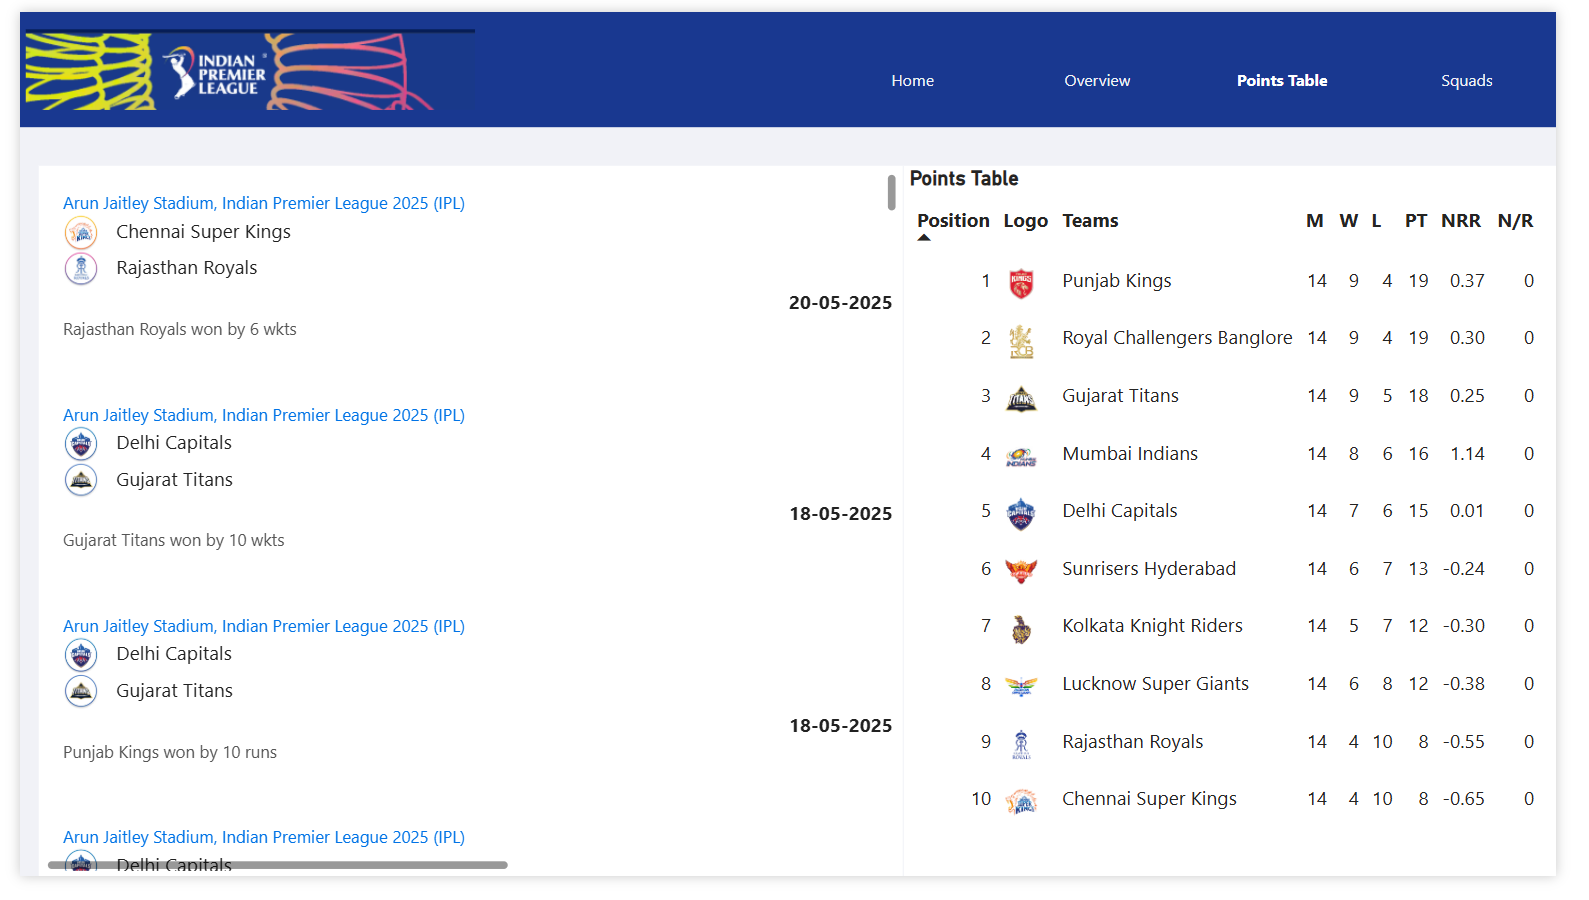

This screenshot's page, from the dashboard's own definition file:
{"tool":"powerbi","page":{"name":"Points Table","canvas":[1280,720],"ordinal":2},"visuals":[{"type":"tableEx","title":"Points Table ","fields":{"Values":["Points_table.Position","Points_table.Logo","Points_table.Teams","Points_table.M","Points_table.W","Points_table.L","Points_table.PT","Points_table.NRR","Points_table.N/R"]},"box":[736,128,544,592],"z":0},{"type":"shape","box":[0,0,1280,96],"z":1000},{"type":"pageNavigator","box":[672,32,608,48],"z":2000},{"type":"htmlContent443BE3AD55E043BF878BED274D3A6855","fields":{"content":["Schedule.Cards_HW"]},"box":[16,128,720,592],"z":3000},{"type":"image","box":[0,0,384,96],"z":4000}]}

Visuals, with their boxes in screenshot pixels (x1, y1, x2, y2), scaled from the page's 1280x720 canvas onto the 1589x900 screenshot:
"Points Table " tableEx: x1=914 y1=160 x2=1588 y2=899
shape: x1=0 y1=0 x2=1588 y2=120
pageNavigator: x1=834 y1=40 x2=1588 y2=100
htmlContent443BE3AD55E043BF878BED274D3A6855 - Schedule.Cards_HW: x1=20 y1=160 x2=914 y2=899
image: x1=0 y1=0 x2=477 y2=120
